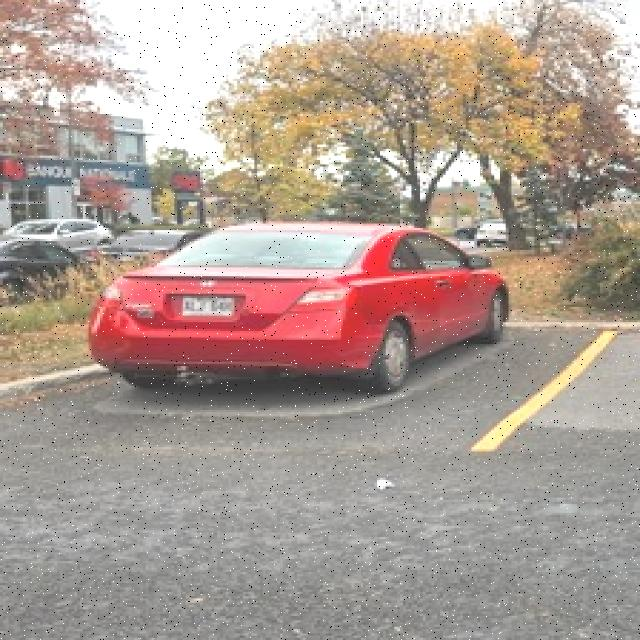plaque: (183, 296, 234, 317)
